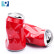paper: (5, 12, 27, 52), (24, 22, 53, 49)
